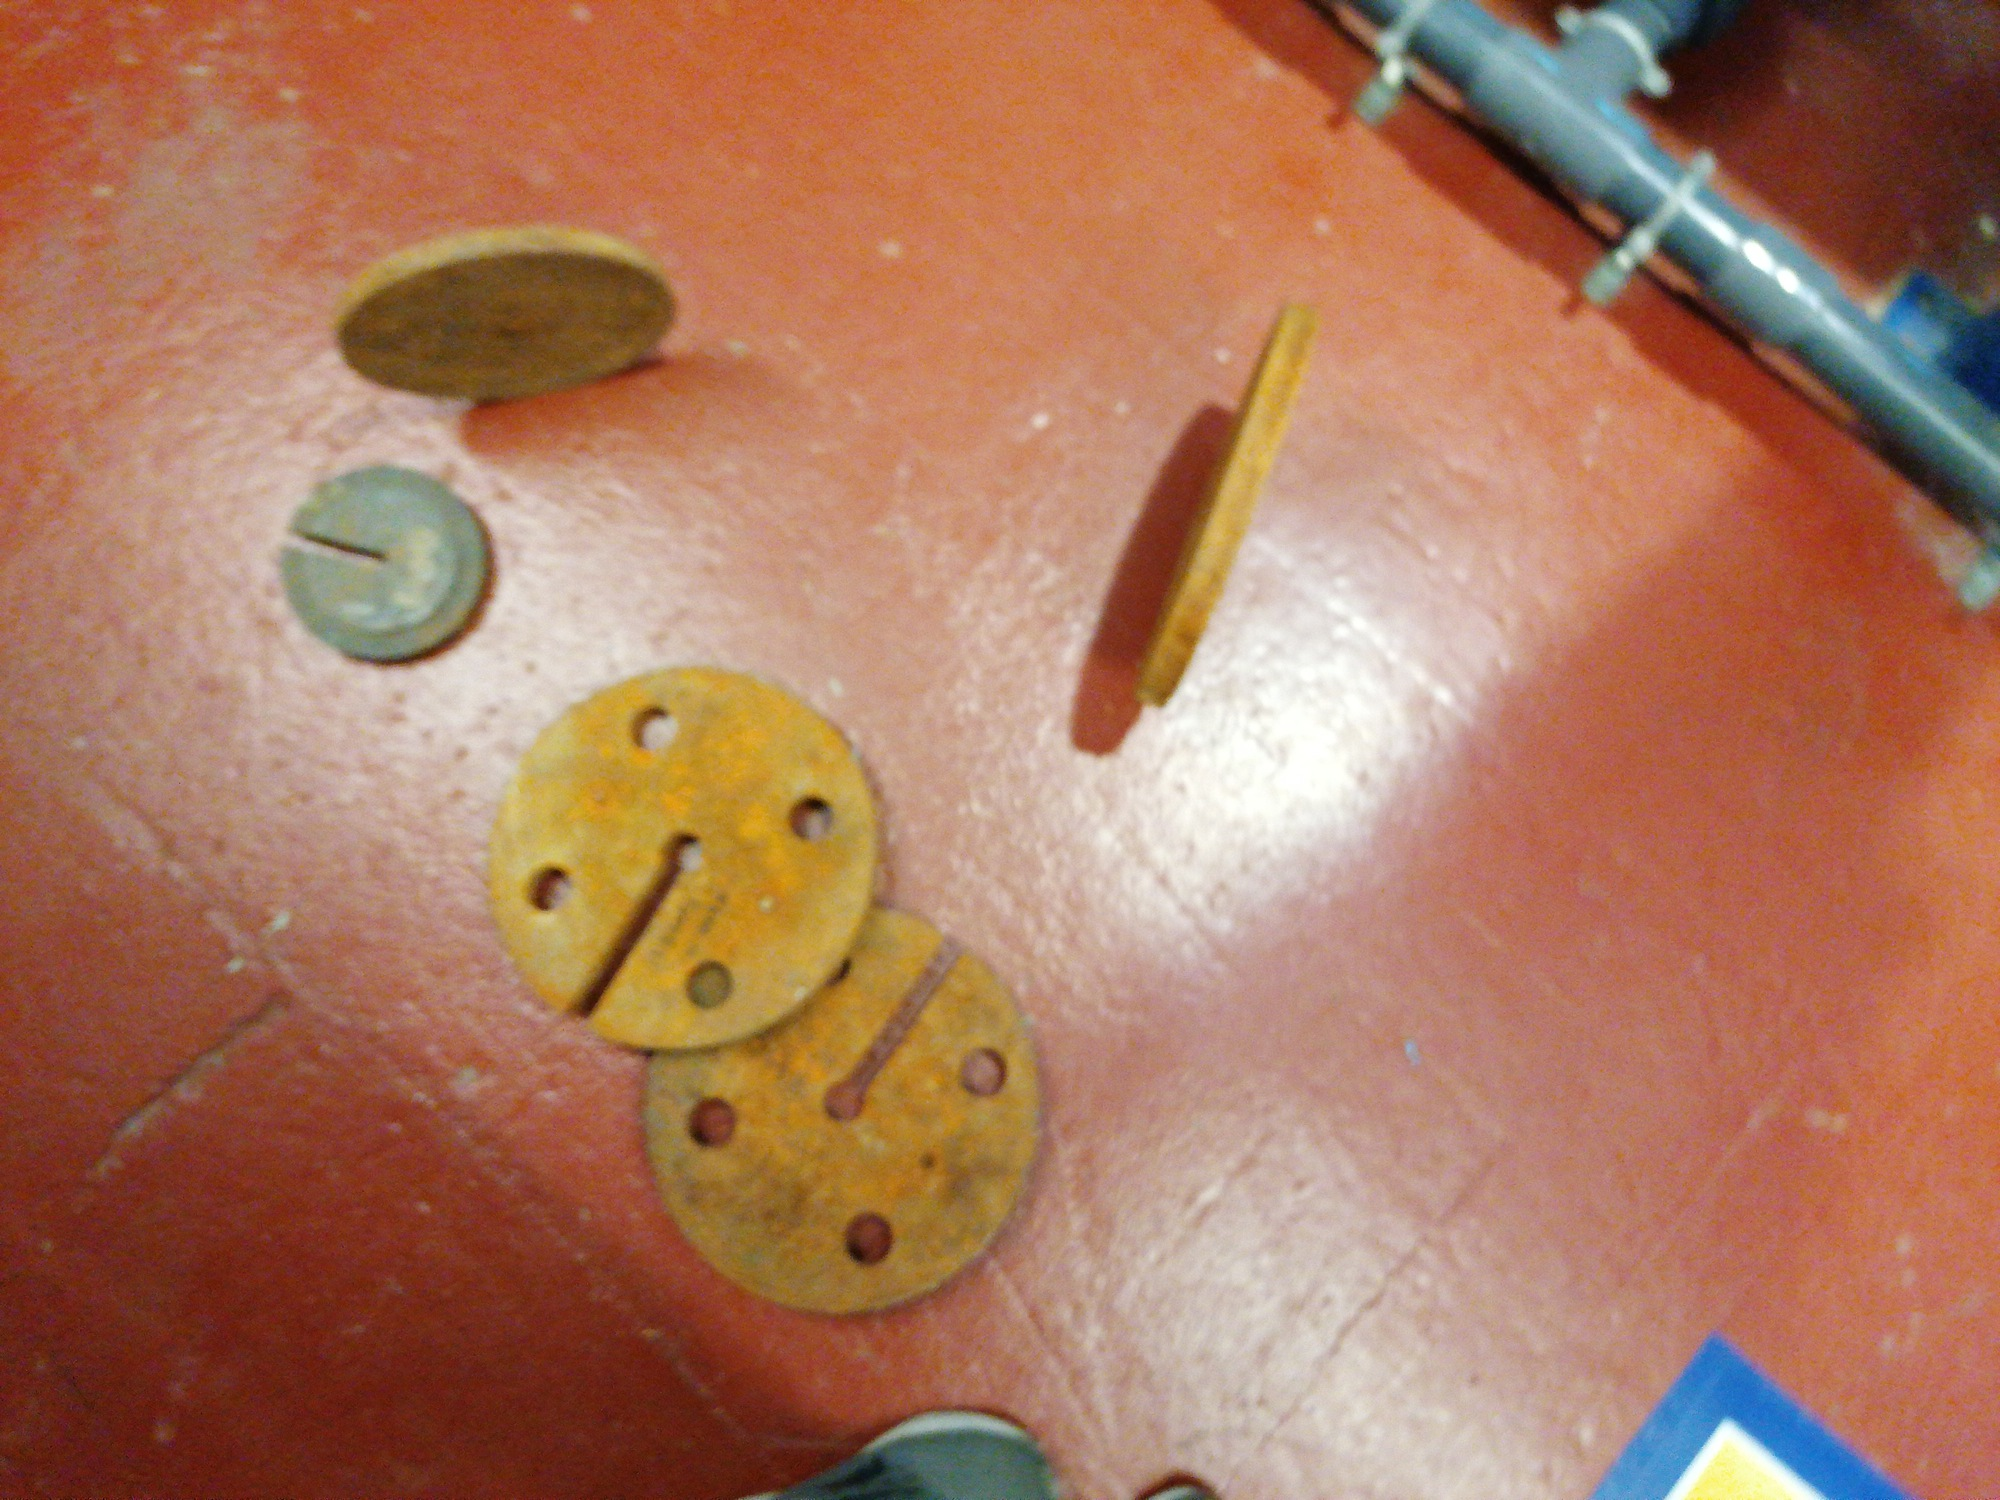flange: (638, 904, 1046, 1316), (485, 668, 890, 1057), (1124, 299, 1324, 711), (328, 216, 679, 400), (272, 463, 494, 670)
